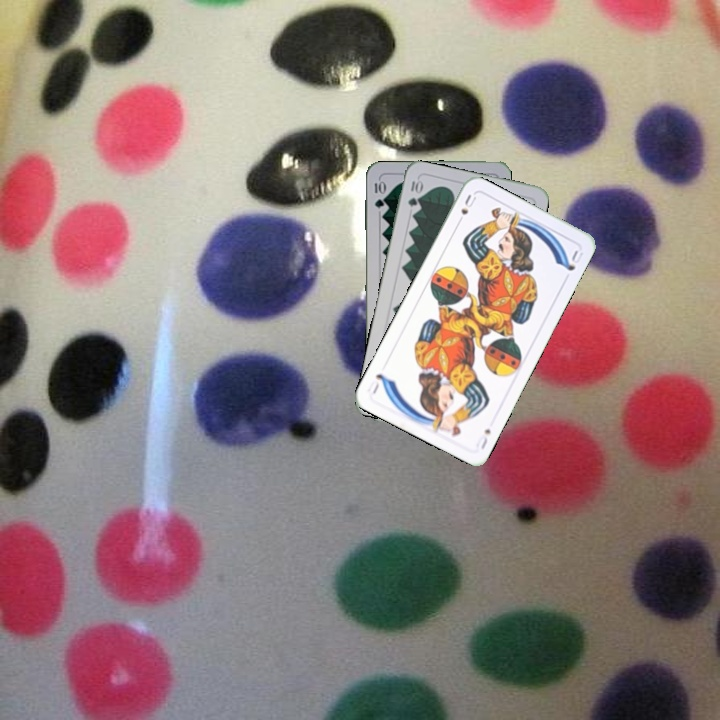G10: (404, 175, 424, 210), (371, 176, 386, 210)
SU: (453, 190, 479, 228), (472, 425, 494, 453)
